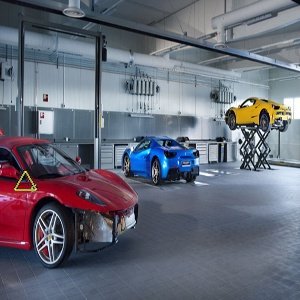triangle: (13, 169, 38, 194)
